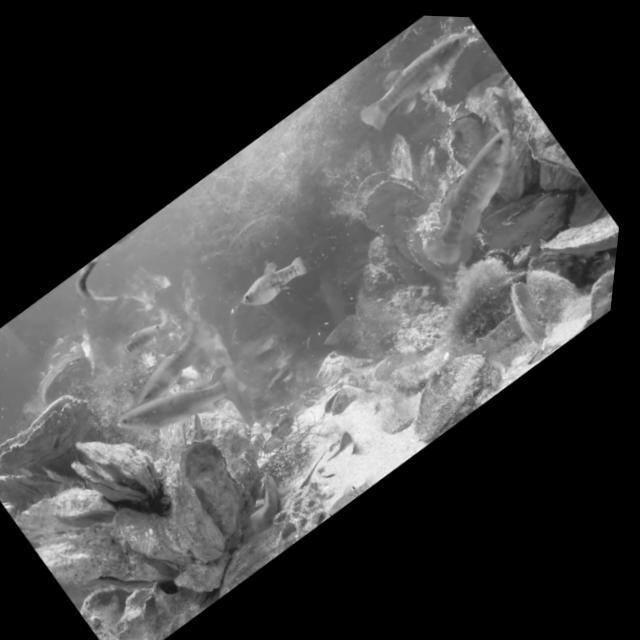Oyster-Closed: (433, 67, 581, 210), (135, 462, 244, 571), (476, 176, 588, 276), (162, 430, 264, 531), (0, 381, 99, 482), (531, 197, 622, 290), (0, 436, 72, 526)
Oyster-Indeterminate: (26, 486, 186, 638), (182, 392, 292, 502), (98, 487, 205, 591), (128, 378, 214, 460), (40, 469, 121, 546), (70, 573, 161, 640), (432, 103, 505, 171), (369, 125, 436, 190)
Oyster-Open: (53, 409, 180, 532), (337, 154, 447, 260), (491, 251, 599, 354), (23, 341, 102, 412), (317, 381, 362, 422)
